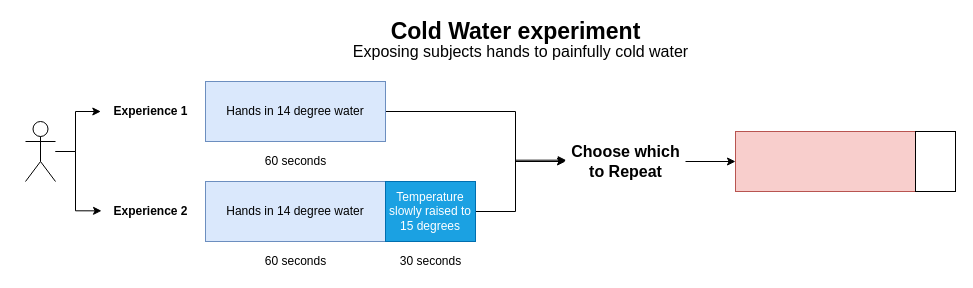
This 973x288 diagram has some shape labels left out. Here are the shapes that lost their labels. From the top down, the centre of each, then its label:
At pixel 40 151: "Subjects".
At pixel 825 161: "80 percent of people choose to repeat Experience 2".
